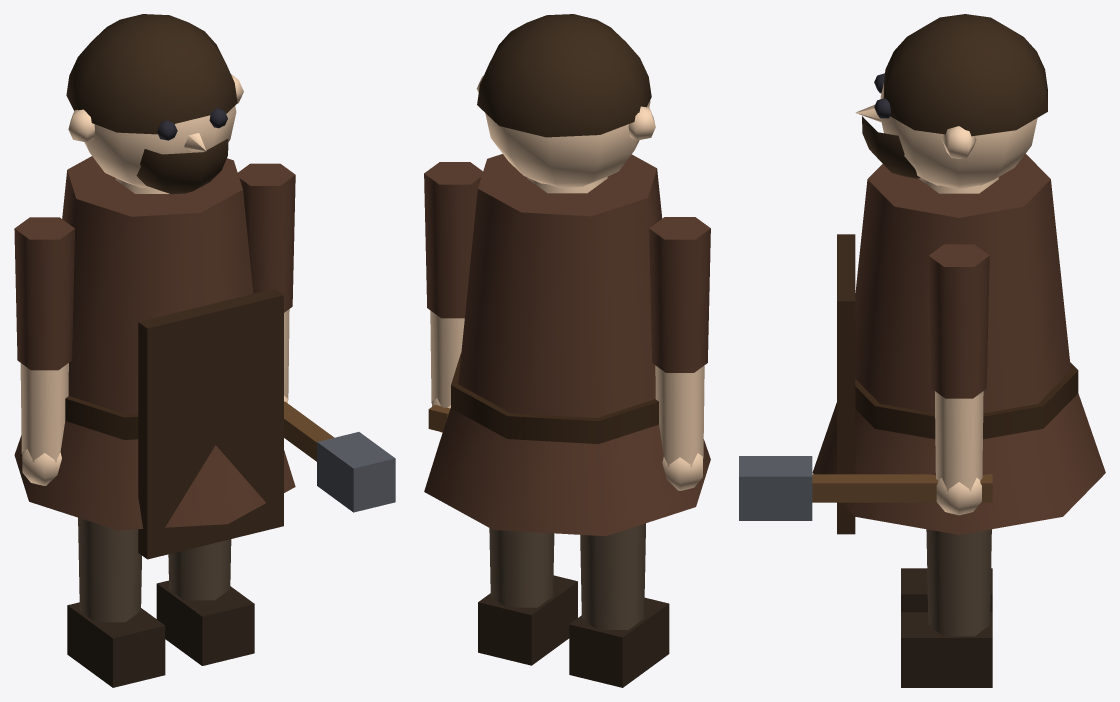
Rendered from w_schmied.glb.
The picture shows the model from 3 angles, left to right: view 1: azimuth 30°, elevation 25°; view 2: azimuth 150°, elevation 25°; view 3: azimuth 270°, elevation 25°; orthographic projection. The views are drawn at different scales.
Parts seen in each view (by area): view 1: worker, arm_l, arm_r, leg_l, leg_r; view 2: worker, arm_l, leg_l, leg_r, arm_r; view 3: worker, arm_r, leg_r, leg_l.
Part boxes in pixels (x1,y1,x2,y2): worker: [14, 14, 295, 559]; arm_l: [14, 217, 74, 485]; arm_r: [238, 163, 395, 512]; leg_l: [67, 517, 165, 687]; leg_r: [156, 539, 254, 665]; worker: [424, 14, 710, 536]; arm_l: [649, 217, 710, 490]; leg_l: [569, 523, 669, 687]; leg_r: [478, 528, 577, 665]; arm_r: [424, 162, 482, 432]; worker: [812, 14, 1105, 534]; arm_r: [739, 244, 992, 520]; leg_r: [901, 529, 992, 687]; leg_l: [901, 568, 992, 612].
Bounding box in the file's own units: 0.4053 × 0.9112 × 0.48.
